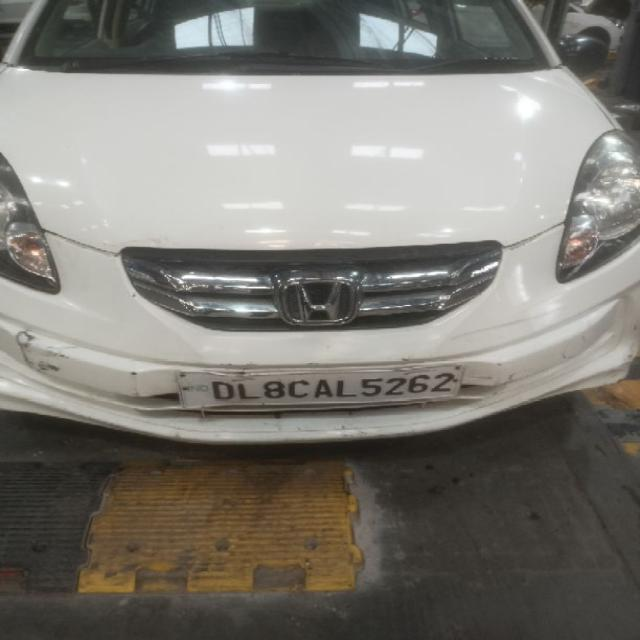license_plate: (174, 363, 464, 413)
